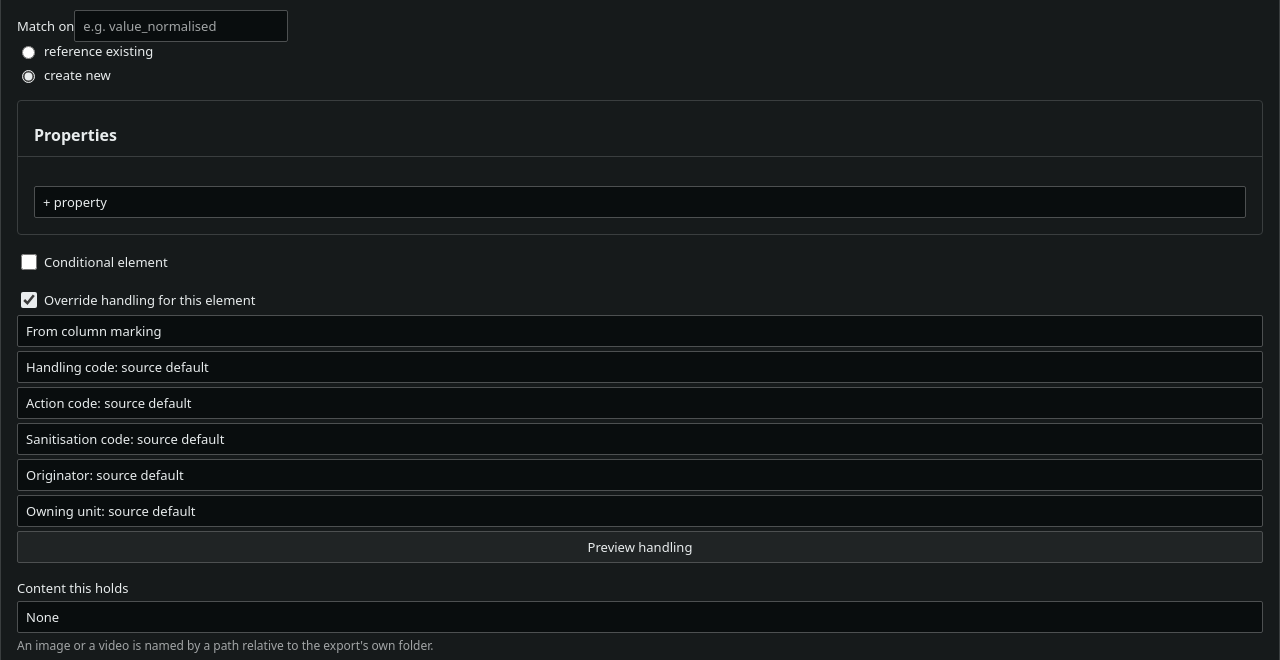
Test: ElementInspector: the preview of a bound part › says from column <name> for a bound part and gives the rest as the server did
(page scrolled)
Click the button "Preview handling" at {"x": 640, "y": 547}, box [17,531,1263,563]
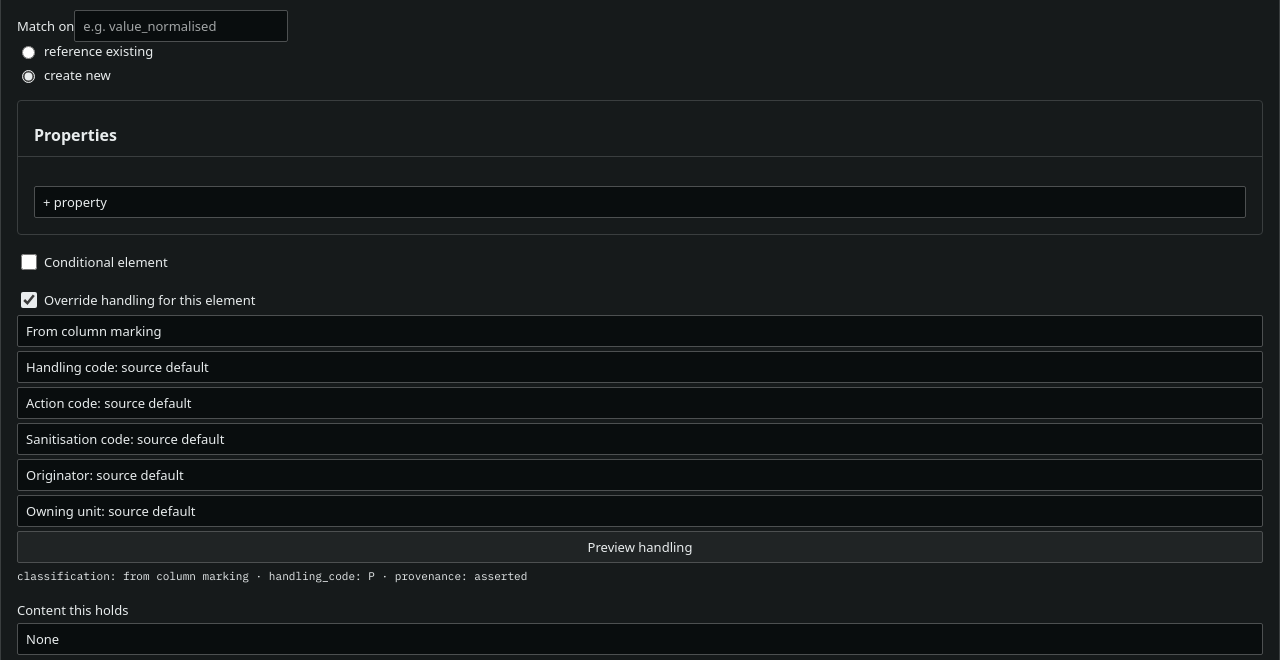
Result: the text "handling_code: P" shows "classification: from column marking" at [17,569,527,583]
Result: the text "handling_code: P" shows "provenance: asserted" at [17,569,527,583]
